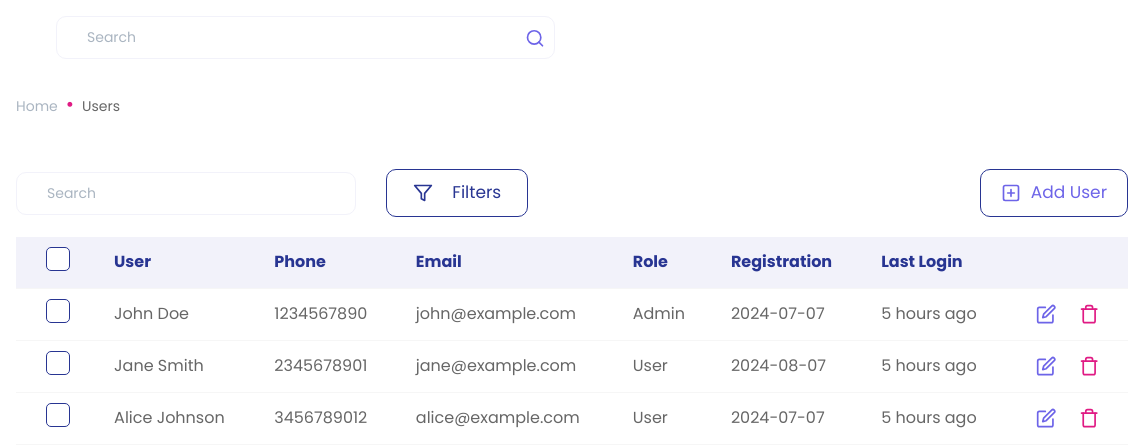
it: UsersPage Component › should select and deselect all users
The image size is (1145, 445).
Click the checkbox in the row of "Phone": (58, 258) [46,246,70,270]
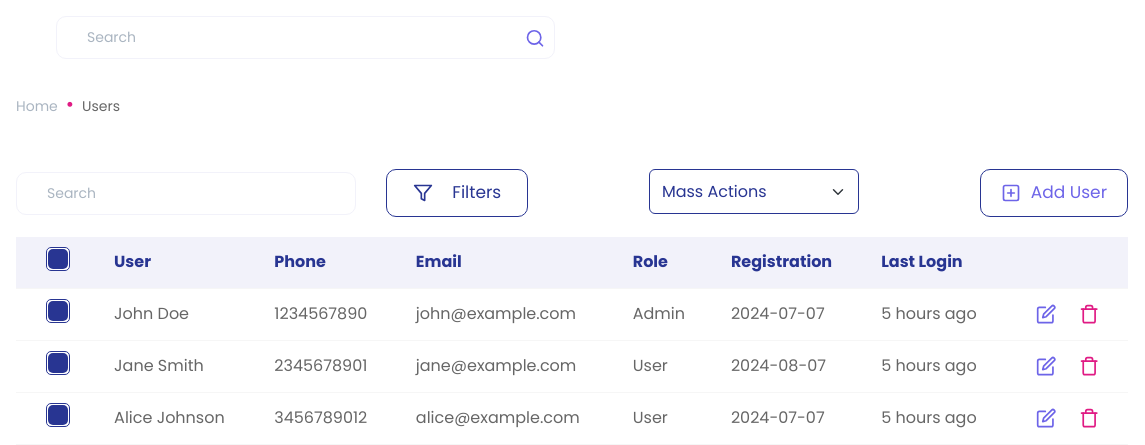
Expected: the checkbox in the row of "Phone" is checked
Expected: the checkbox next to "John Doe" is checked, [46,298,70,322]
Expected: the checkbox next to "Jane Smith" is checked, [46,350,70,374]
Click the checkbox in the row of "Phone": (58, 258) [46,246,70,270]
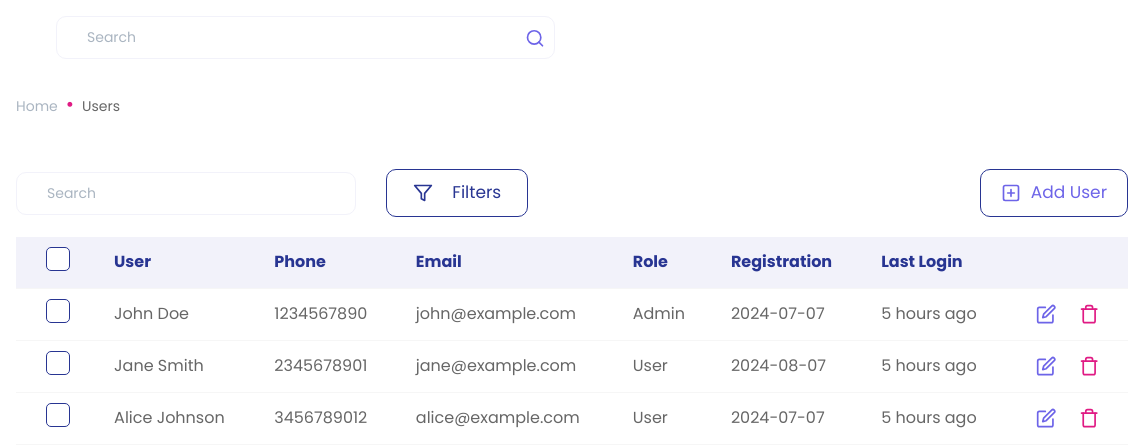
Expected: the checkbox in the row of "Phone" is not checked, [46,246,70,270]
Expected: the checkbox next to "John Doe" is not checked, [46,298,70,322]
Expected: the checkbox next to "Jane Smith" is not checked, [46,350,70,374]
